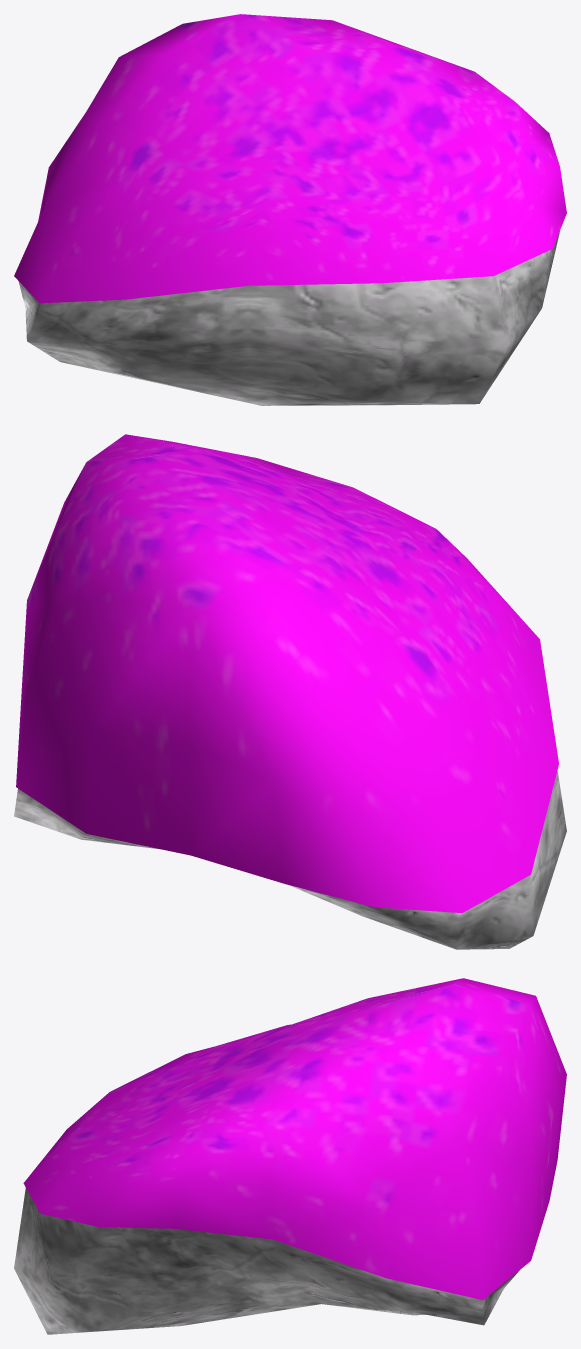
Rendered from INST_SWORDLIGHT_ROCKGLOWB.fbx.
The picture shows the model from 3 angles, top to bottom: view 1: azimuth 30°, elevation 25°; view 2: azimuth 150°, elevation 25°; view 3: azimuth 270°, elevation 25°; orthographic projection. The views are drawn at different scales.
Visible parts, largest first — view 1: INST_SWORDLIGHT_ROCKGLOWB; view 2: INST_SWORDLIGHT_ROCKGLOWB; view 3: INST_SWORDLIGHT_ROCKGLOWB.
Part boxes in pixels (left/top/right/bottom): INST_SWORDLIGHT_ROCKGLOWB: left=14, top=14, right=566, bottom=405; INST_SWORDLIGHT_ROCKGLOWB: left=14, top=434, right=566, bottom=949; INST_SWORDLIGHT_ROCKGLOWB: left=14, top=978, right=566, bottom=1334.
Size of the model in its own units: 21028 by 13964 by 21028.
2 materials, 2 textured.
